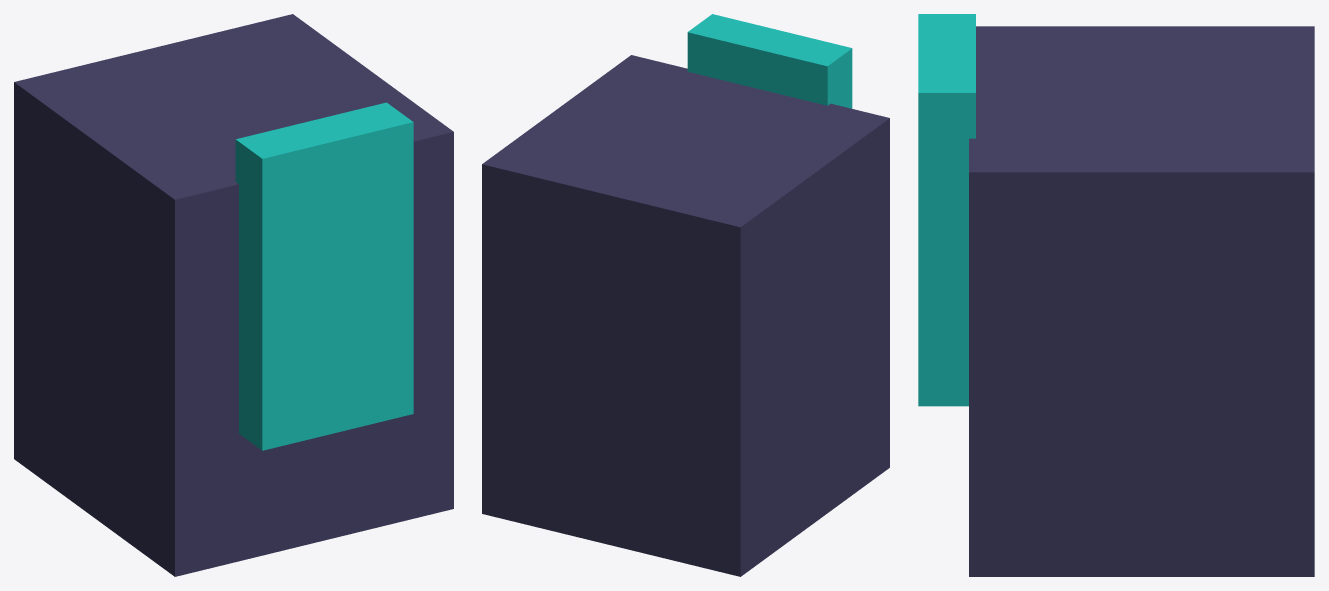
The model's file is legs-2.obj.
The picture shows the model from 3 angles, left to right: view 1: azimuth 30°, elevation 25°; view 2: azimuth 150°, elevation 25°; view 3: azimuth 270°, elevation 25°; orthographic projection. The views are drawn at different scales.
Size of the model in its own units: 0.24 by 0.345 by 0.275.
